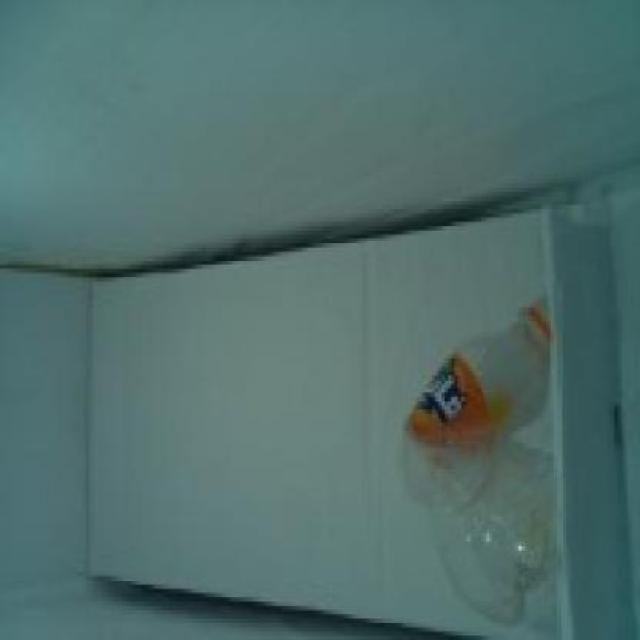Pet_Bottle: (402, 295, 556, 623)
